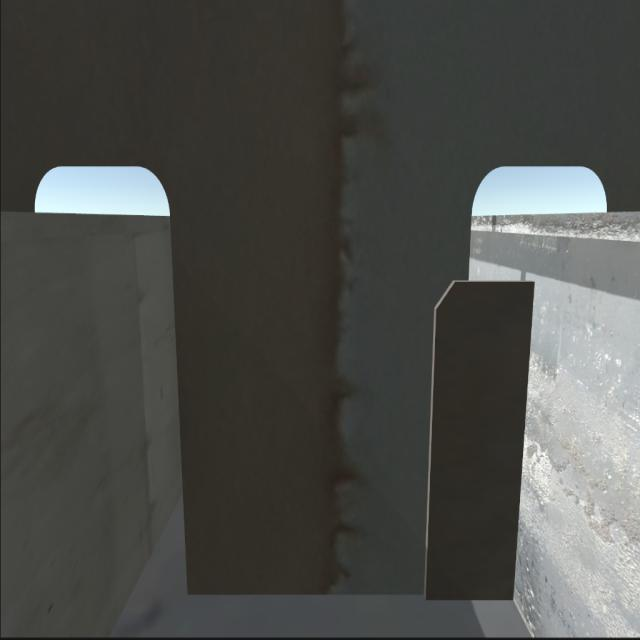fillet_yong_jeop_jang: (182, 576, 516, 610)
longi_yong_jeop_jang: (509, 268, 538, 604)
plate_CP03: (428, 276, 518, 602)
